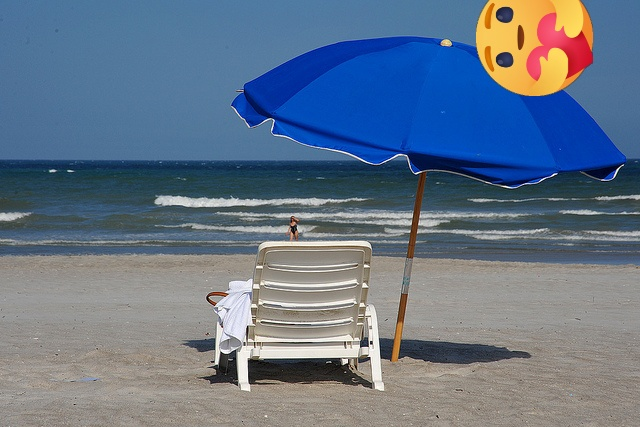care: (476, 0, 593, 96)
